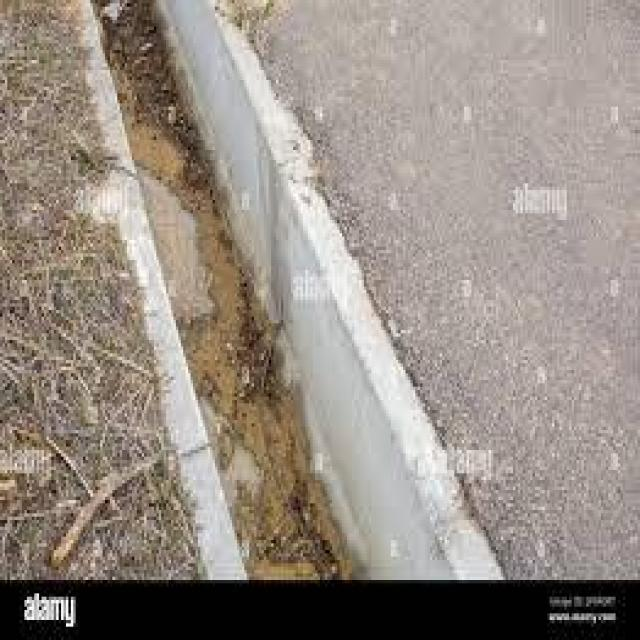curb: (242, 210, 415, 482), (146, 1, 298, 192)
